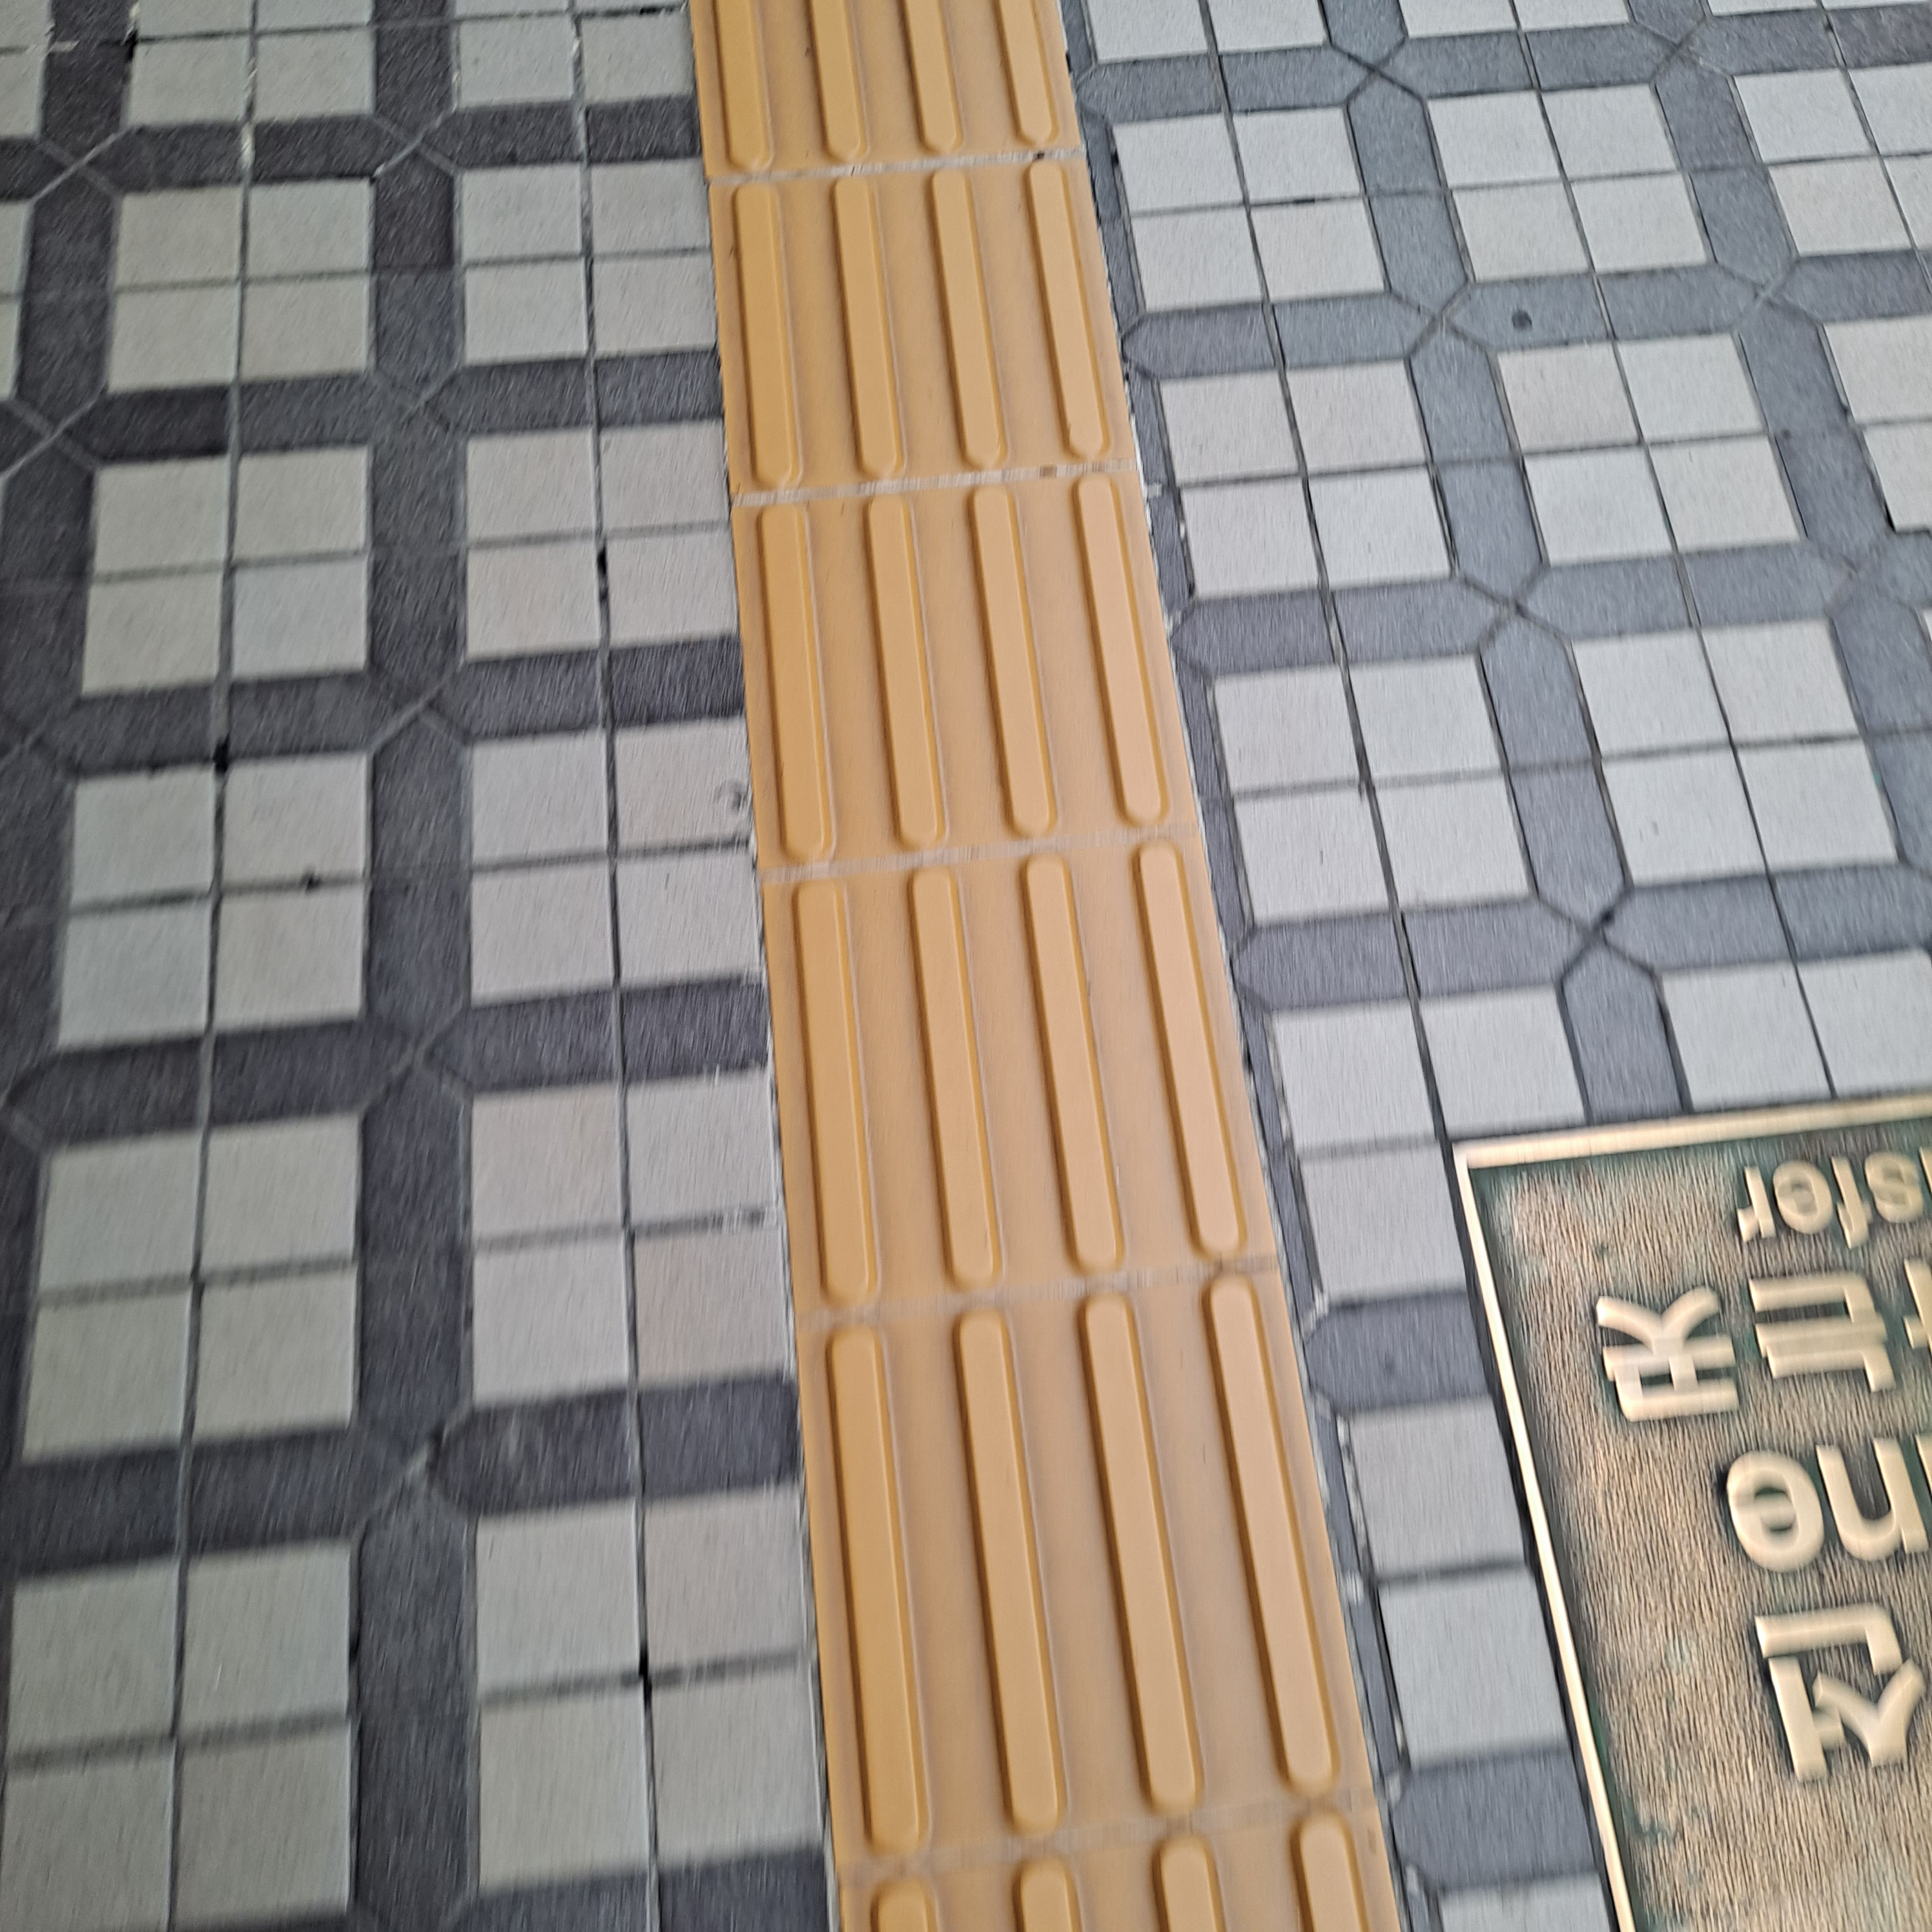guideBlock: (835, 1345, 1371, 1817), (789, 840, 1261, 1300), (736, 492, 1184, 902), (725, 159, 1141, 552), (699, 21, 1095, 218)
